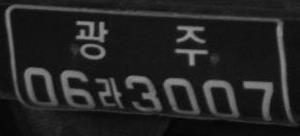0: (22, 65, 59, 108), (164, 75, 201, 117), (202, 77, 239, 119)
3: (125, 73, 163, 112)
6: (60, 67, 96, 109)
7: (241, 79, 275, 123)
광주_D: (73, 16, 210, 68)
라: (96, 75, 124, 109)
